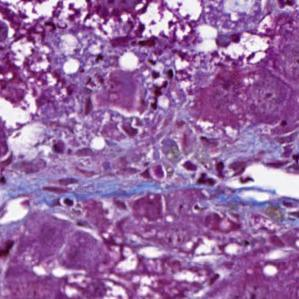inflammation: (140, 55, 181, 116)
